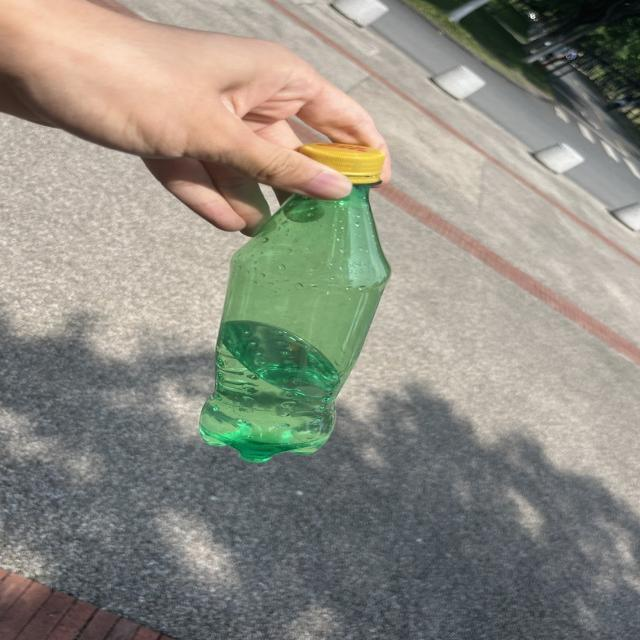medium: (200, 143, 389, 462)
